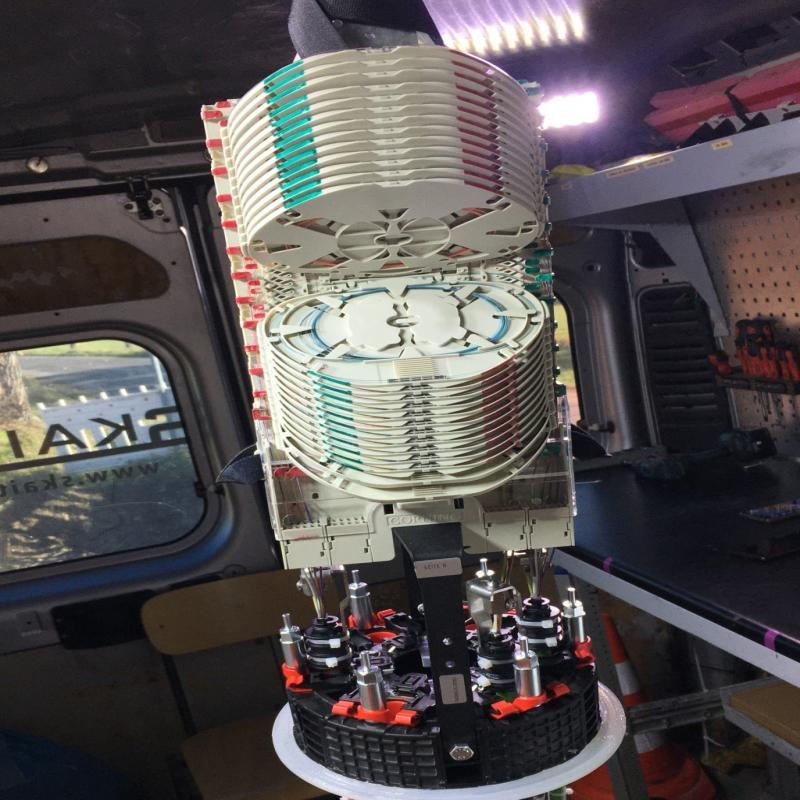NT-Muffen: (199, 50, 623, 800)
